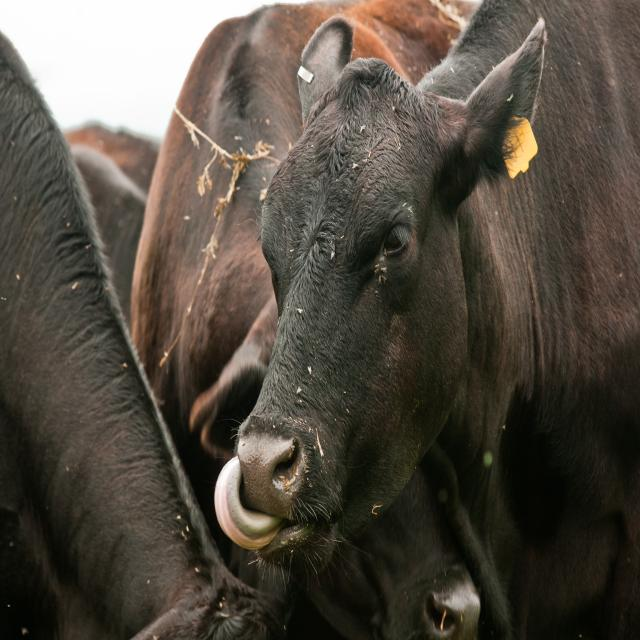cow: (215, 2, 640, 636), (131, 0, 480, 638), (0, 34, 282, 638)
